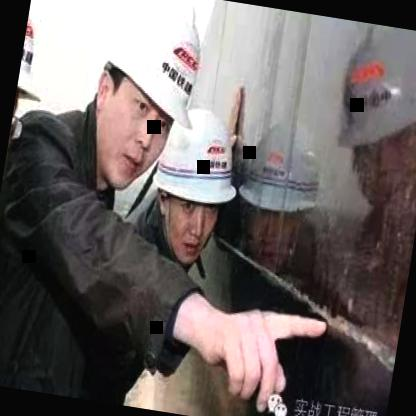helmet: (70, 0, 215, 219), (139, 88, 252, 274), (0, 11, 53, 209)
